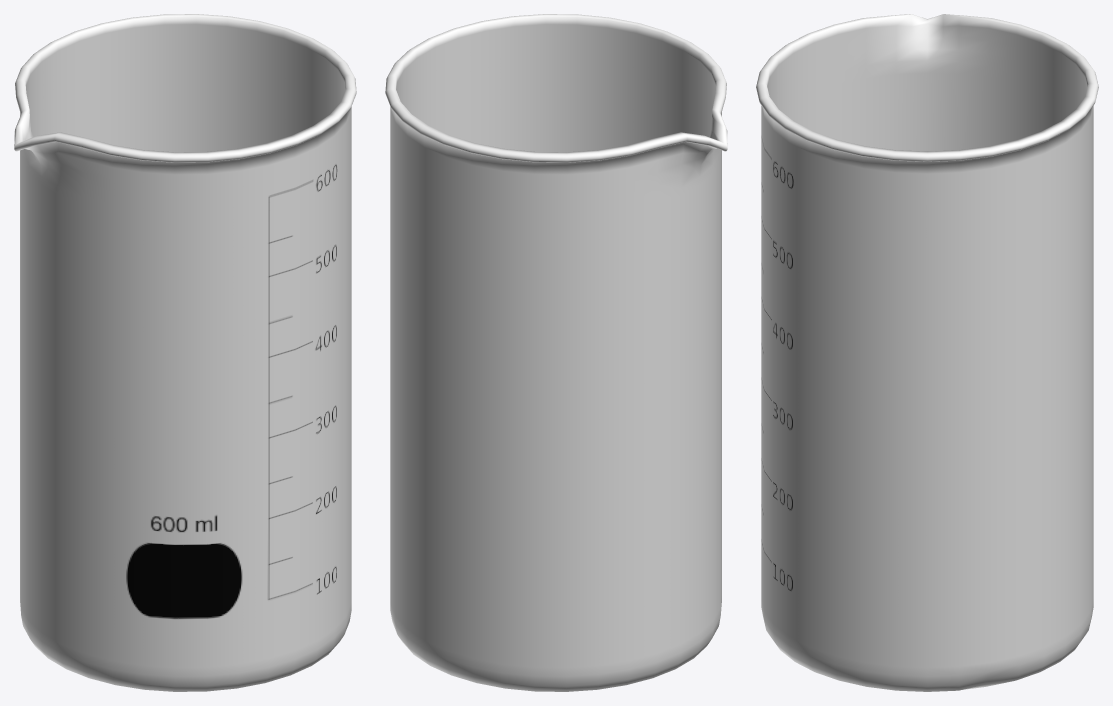
File: ChemicBeaker.fbx
3 views of the same model, side by side, from view 1: azimuth 30°, elevation 25°; view 2: azimuth 150°, elevation 25°; view 3: azimuth 270°, elevation 25° (orthographic).
Visible parts, largest first — view 1: beaker_high; view 2: beaker_high; view 3: beaker_high.
Boxes of the visible parts, x1,y1,x2,y2 form: beaker_high: (14,14,356,691); beaker_high: (385,14,727,691); beaker_high: (756,14,1098,691).
Size of the model in its own units: 9.12 by 14.8 by 8.45.
Materials: 1 (1 with a texture image).
